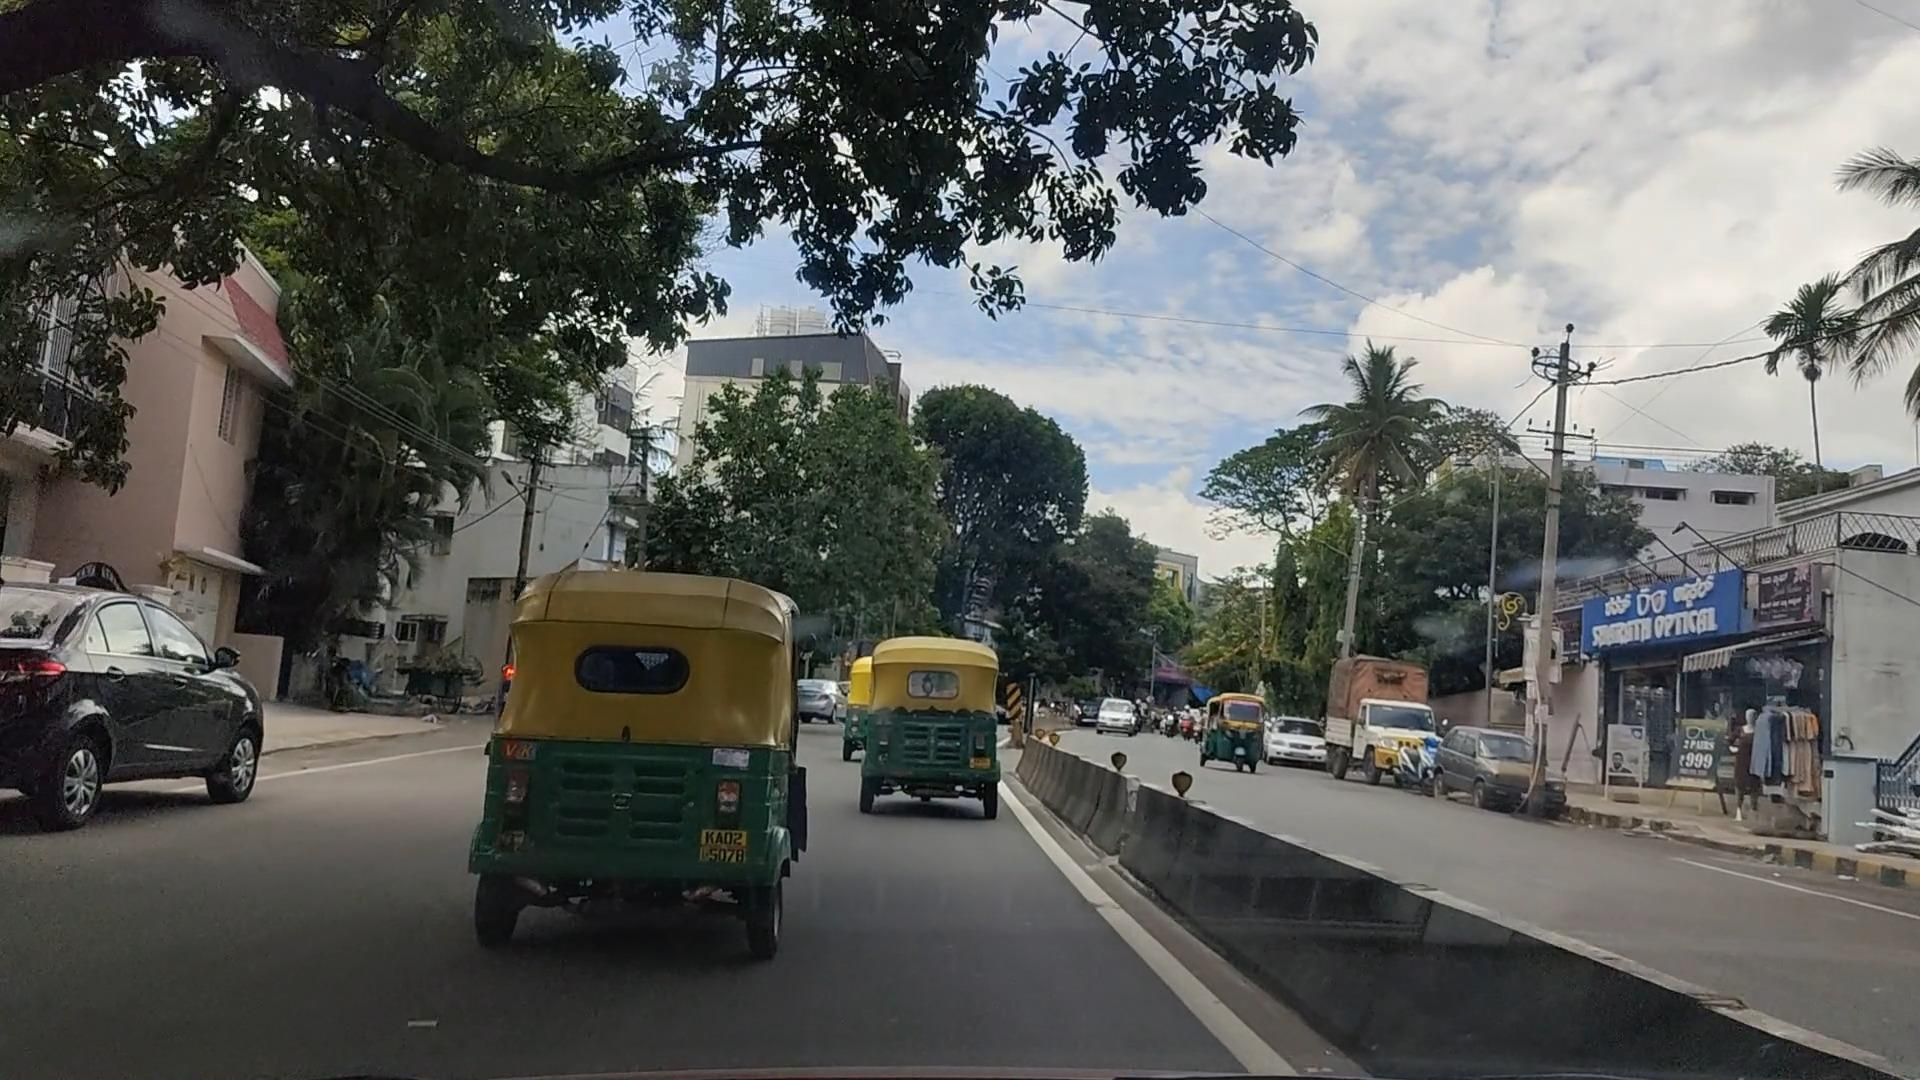LMV: (508, 575, 810, 967), (3, 578, 273, 843), (843, 625, 1009, 827)
